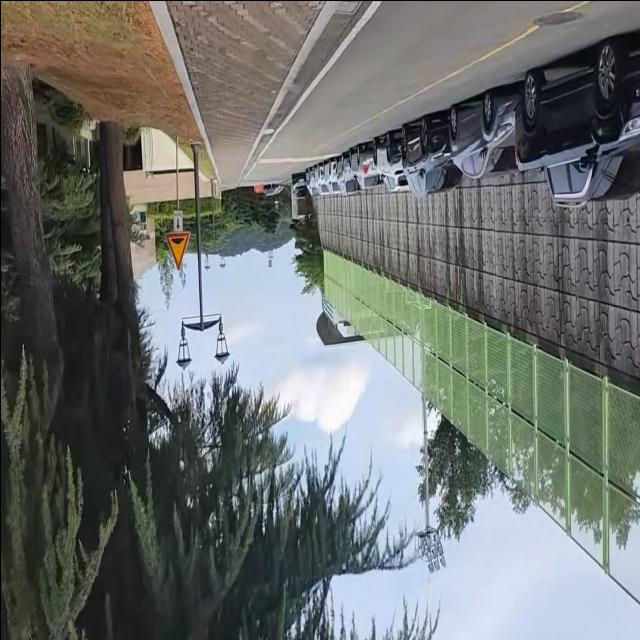obstacle: (298, 82, 520, 203), (512, 25, 640, 213), (175, 145, 235, 375)
road: (236, 0, 640, 185)
sidewalk: (148, 0, 337, 188)
